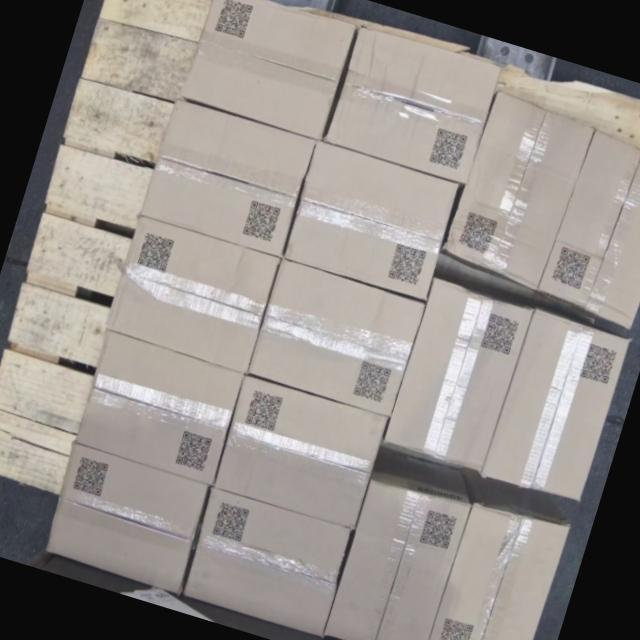box: (436, 85, 605, 292), (322, 22, 503, 184), (480, 306, 628, 504), (282, 139, 460, 299), (382, 278, 530, 470), (210, 372, 386, 528), (246, 260, 422, 416), (141, 98, 312, 256), (106, 216, 279, 370), (72, 328, 244, 482), (177, 485, 353, 635), (38, 440, 210, 590), (183, 0, 355, 139), (324, 476, 469, 640), (532, 125, 640, 329), (424, 497, 569, 640)
